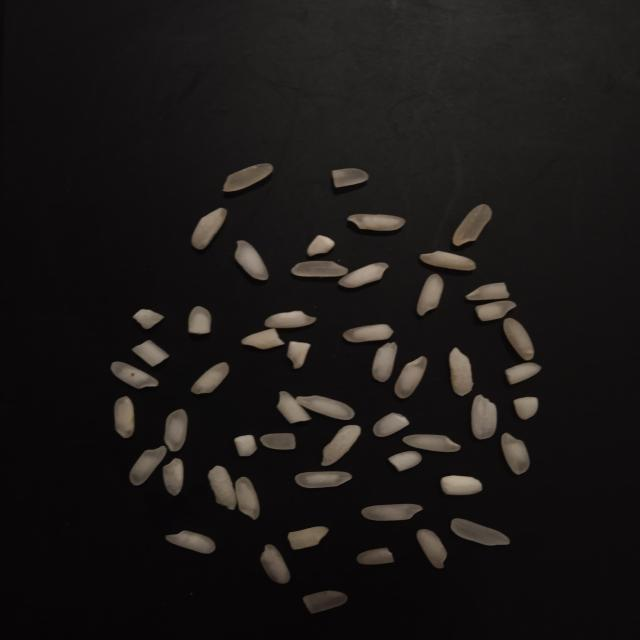Broken: (277, 391, 311, 424), (302, 590, 348, 614), (132, 339, 170, 366), (288, 526, 329, 550), (342, 324, 393, 343), (241, 328, 284, 350), (373, 412, 409, 437), (475, 300, 517, 321), (505, 362, 541, 386), (441, 475, 483, 495), (466, 282, 510, 301), (388, 450, 422, 472), (332, 168, 369, 188), (286, 341, 311, 369), (188, 306, 212, 335), (356, 547, 394, 565), (133, 309, 164, 329), (307, 235, 335, 257), (260, 433, 296, 450), (513, 397, 539, 420), (234, 435, 257, 457)
Full: (450, 518, 510, 546), (452, 204, 492, 245), (321, 425, 360, 466), (192, 207, 228, 251), (129, 446, 167, 486), (222, 163, 274, 192), (296, 395, 354, 420), (234, 240, 269, 280), (394, 356, 427, 398), (503, 318, 534, 361), (338, 262, 389, 288), (111, 361, 158, 389), (208, 465, 237, 510), (500, 432, 530, 475), (416, 529, 448, 569), (165, 530, 216, 554), (191, 362, 229, 394), (261, 544, 291, 584), (448, 348, 473, 396), (471, 394, 497, 440), (419, 250, 477, 270), (235, 476, 260, 520), (417, 274, 443, 316), (361, 504, 423, 521), (403, 434, 461, 452), (164, 409, 188, 452), (348, 214, 406, 231), (372, 343, 397, 382), (295, 471, 352, 488), (264, 310, 316, 328), (291, 260, 348, 276), (114, 396, 135, 438), (163, 458, 183, 496)
